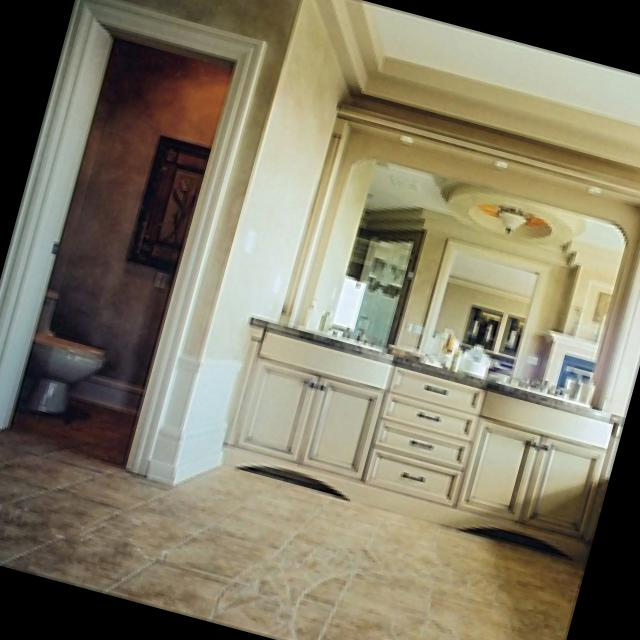bottle crop: (453, 340, 490, 374), (433, 329, 451, 361)
cabinet door: (216, 316, 619, 563), (212, 324, 613, 560)
ceiling beam: (319, 0, 640, 170), (361, 0, 640, 121)
counter bottom: (246, 308, 617, 418)
door bars: (0, 0, 256, 473)
door crop: (228, 355, 380, 473)
drawyers: (358, 365, 480, 504)
floor -X: (0, 395, 580, 640)
mirror crop: (277, 114, 640, 405)
painting crop: (127, 131, 207, 270)
sink occluded: (514, 372, 564, 389), (301, 309, 334, 329)
toilet bowl: (20, 288, 103, 412)
wall outlets: (150, 268, 167, 285)
